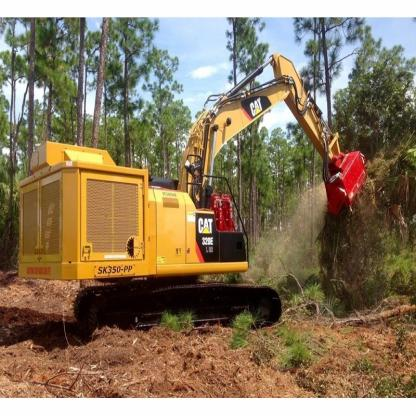excavator: (26, 40, 386, 346)
